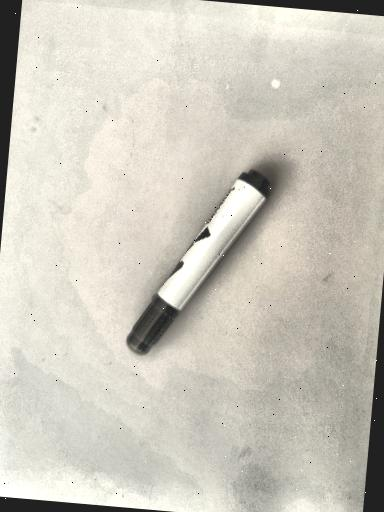marcador negro: (126, 170, 270, 354)
